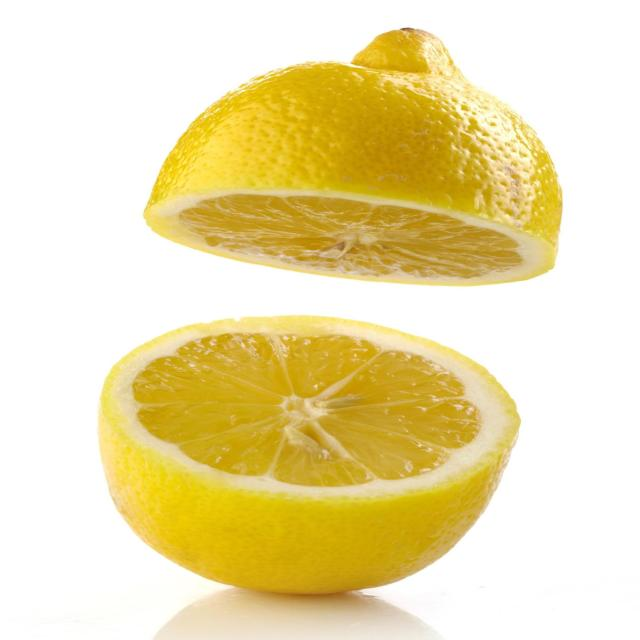lemon: (91, 310, 524, 598), (136, 21, 569, 293)
